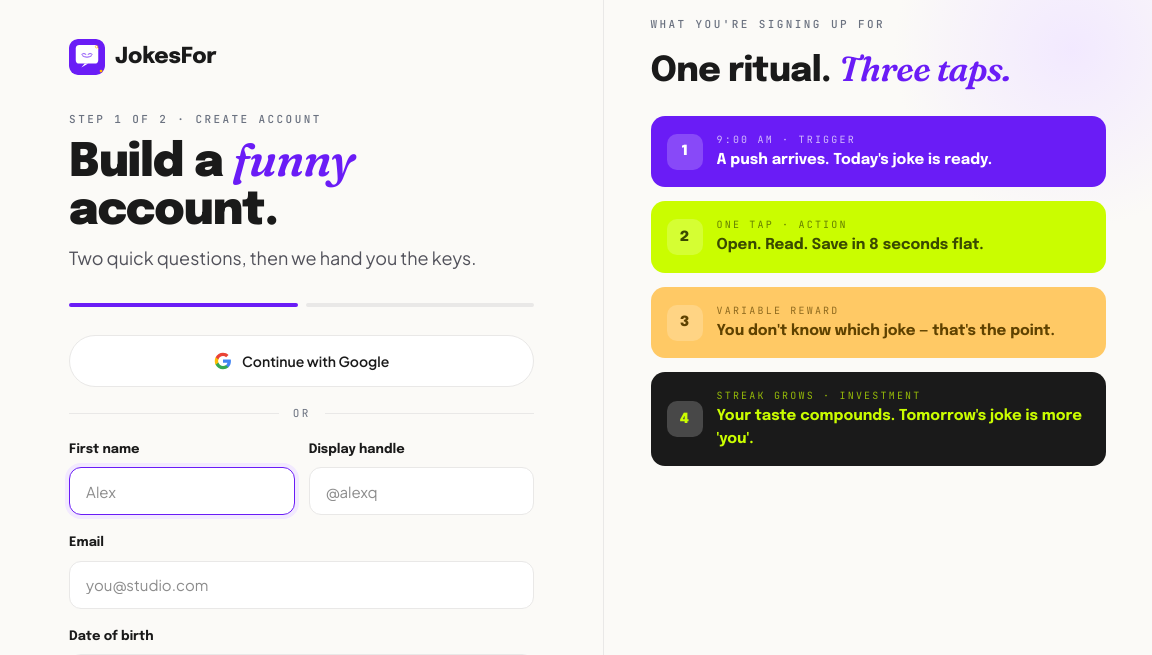
Continue with Google without a DOB does not redirect and asks for DOB
Step 1. Click the button "Continue with Google" → (302, 361), box left=69, top=335, right=534, bottom=387
(page scrolled)
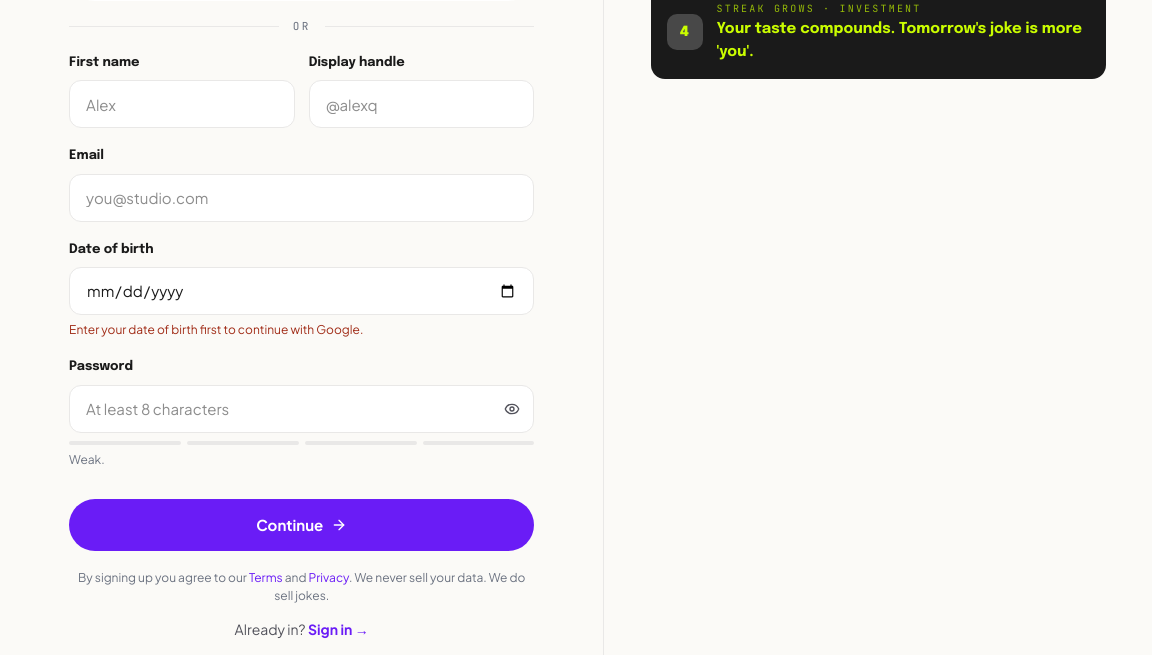
Result: the text "Enter your date of birth first to continue with Google." is shown at left=69, top=322, right=363, bottom=337
